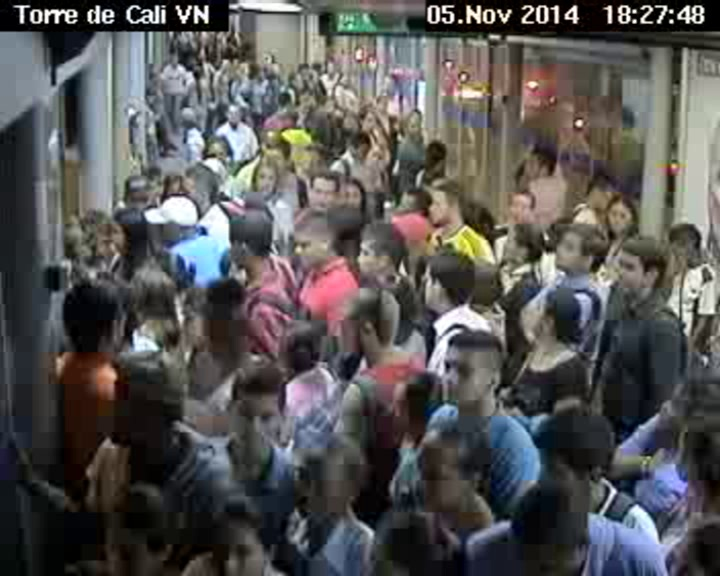person: (527, 402, 614, 504), (106, 344, 186, 447), (413, 421, 498, 511), (503, 478, 589, 558), (203, 492, 278, 576), (370, 508, 457, 576), (106, 483, 179, 558), (225, 363, 290, 446), (334, 286, 402, 358), (656, 502, 720, 576), (296, 436, 355, 515), (672, 406, 720, 501), (441, 335, 503, 408), (60, 272, 119, 346), (610, 237, 668, 305), (130, 261, 182, 336), (181, 279, 230, 355), (353, 223, 409, 286), (288, 209, 344, 269), (552, 218, 607, 279), (418, 250, 472, 311), (528, 282, 576, 348), (224, 210, 275, 266), (494, 219, 547, 271), (67, 210, 116, 264), (395, 370, 438, 424), (667, 218, 707, 271), (150, 194, 195, 241), (106, 206, 146, 257), (426, 178, 464, 230), (277, 322, 323, 363), (179, 161, 212, 208), (306, 170, 349, 205), (605, 195, 639, 239), (580, 171, 617, 210), (525, 145, 559, 184), (122, 172, 154, 210), (247, 156, 278, 194), (202, 132, 231, 166), (338, 173, 364, 209), (176, 101, 203, 135), (420, 136, 449, 167), (397, 186, 427, 215), (504, 190, 537, 215), (347, 135, 371, 163), (285, 110, 312, 133), (357, 108, 379, 134), (403, 112, 426, 136), (264, 129, 282, 152), (226, 101, 243, 125), (271, 92, 291, 110), (381, 76, 397, 97), (288, 70, 306, 88), (371, 94, 388, 113), (246, 64, 263, 81), (167, 54, 179, 67), (192, 67, 203, 81)
